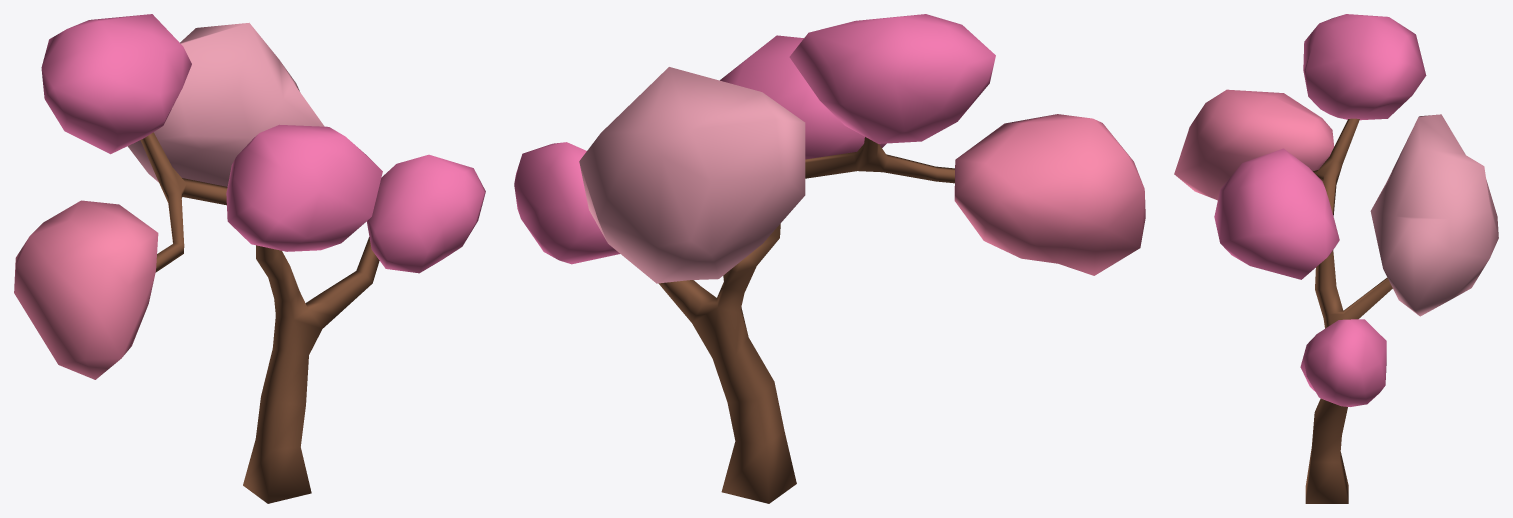
The model's file is Sakura_2.fbx.
3 renders of one model, left to right at view 1: azimuth 30°, elevation 25°; view 2: azimuth 150°, elevation 25°; view 3: azimuth 270°, elevation 25°, orthographic. The views are drawn at different scales.
Parts seen in each view (by area): view 1: Tree4_Leave2, Tree4, Tree4_Leave3, Tree4_Leave4, Tree4_Leave5, Tree4_Leave1; view 2: Tree4_Leave4, Tree4_Leave2, Tree4_Leave5, Tree4, Tree4_Leave1, Tree4_Leave3; view 3: Tree4_Leave4, Tree4_Leave3, Tree4_Leave5, Tree4_Leave2, Tree4, Tree4_Leave1.
Boxes of the visible parts, x1,y1,x2,y2 form: Tree4_Leave2: [14, 200, 158, 379]; Tree4: [140, 132, 379, 503]; Tree4_Leave3: [226, 124, 382, 251]; Tree4_Leave4: [127, 22, 324, 186]; Tree4_Leave5: [41, 14, 191, 154]; Tree4_Leave1: [367, 154, 485, 273]; Tree4_Leave4: [579, 67, 805, 283]; Tree4_Leave2: [954, 114, 1145, 275]; Tree4_Leave5: [789, 14, 995, 143]; Tree4: [658, 137, 954, 503]; Tree4_Leave1: [514, 142, 619, 264]; Tree4_Leave3: [720, 35, 886, 159]; Tree4_Leave4: [1370, 114, 1498, 316]; Tree4_Leave3: [1214, 148, 1339, 279]; Tree4_Leave5: [1303, 14, 1426, 120]; Tree4_Leave2: [1174, 89, 1334, 200]; Tree4: [1305, 118, 1392, 503]; Tree4_Leave1: [1300, 319, 1386, 406].
Bounding box in the file's own units: 643 × 590 × 419.
